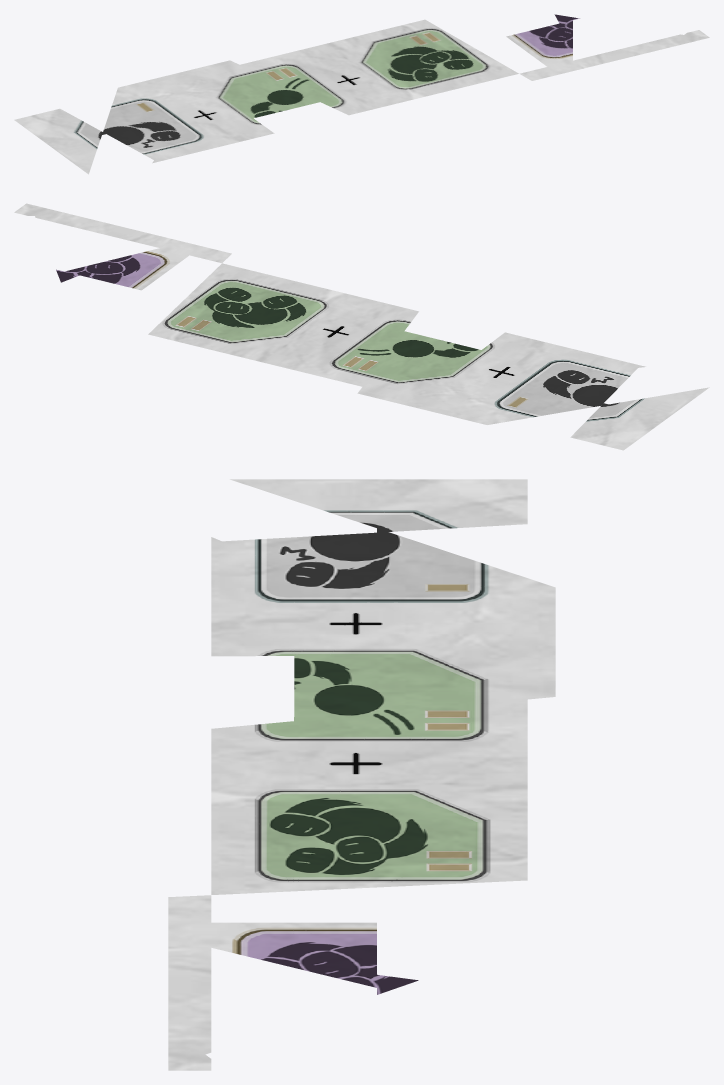
The model's file is Blueprint6.fbx.
3 views of the same model, one above another, from view 1: azimuth 30°, elevation 25°; view 2: azimuth 150°, elevation 25°; view 3: azimuth 270°, elevation 25° (orthographic). The views are drawn at different scales.
Parts seen in each view (by area): view 1: 平面.005; view 2: 平面.005; view 3: 平面.005.
Boxes of the visible parts, x1,y1,x2,y2 form: 平面.005: (14, 14, 709, 174); 平面.005: (14, 203, 709, 450); 平面.005: (168, 479, 555, 1070).
Bounding box in the file's own units: 252 × 0 × 69.86.
Materials: 1 (1 with a texture image).
